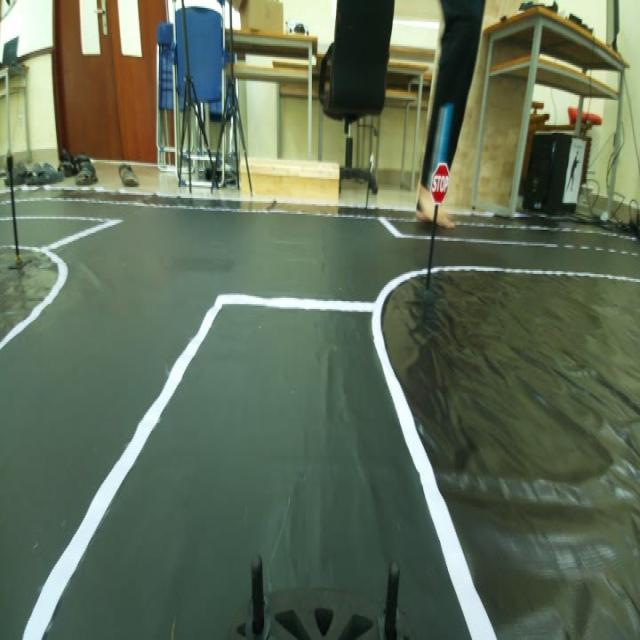stop: (429, 159, 454, 210)
